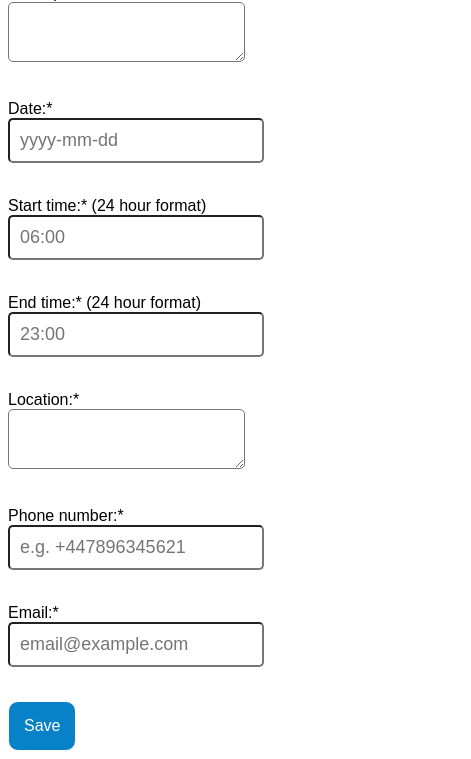
Test: CreateEventForm component › submit empty form
(page scrolled)
Step 1. Click the button "Save" → point(42, 726), box top-left (8, 701), bottom-right (76, 751)
(page scrolled)
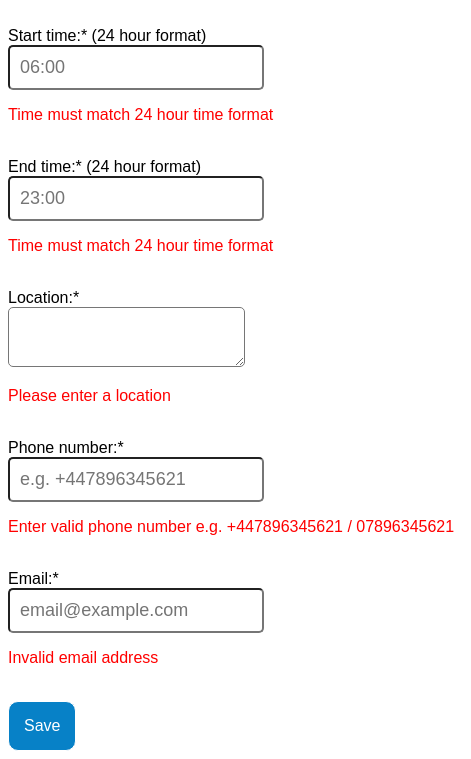
Check: the 1st text "Time must match 24 hour time format" is shown, box top-left (8, 106), bottom-right (273, 123)
Check: the text "Please enter a location" is shown, box top-left (8, 387), bottom-right (171, 404)
Check: the text "Enter valid phone number e.g. +447896345621 / 07896345621" is shown, box top-left (8, 518), bottom-right (454, 535)
